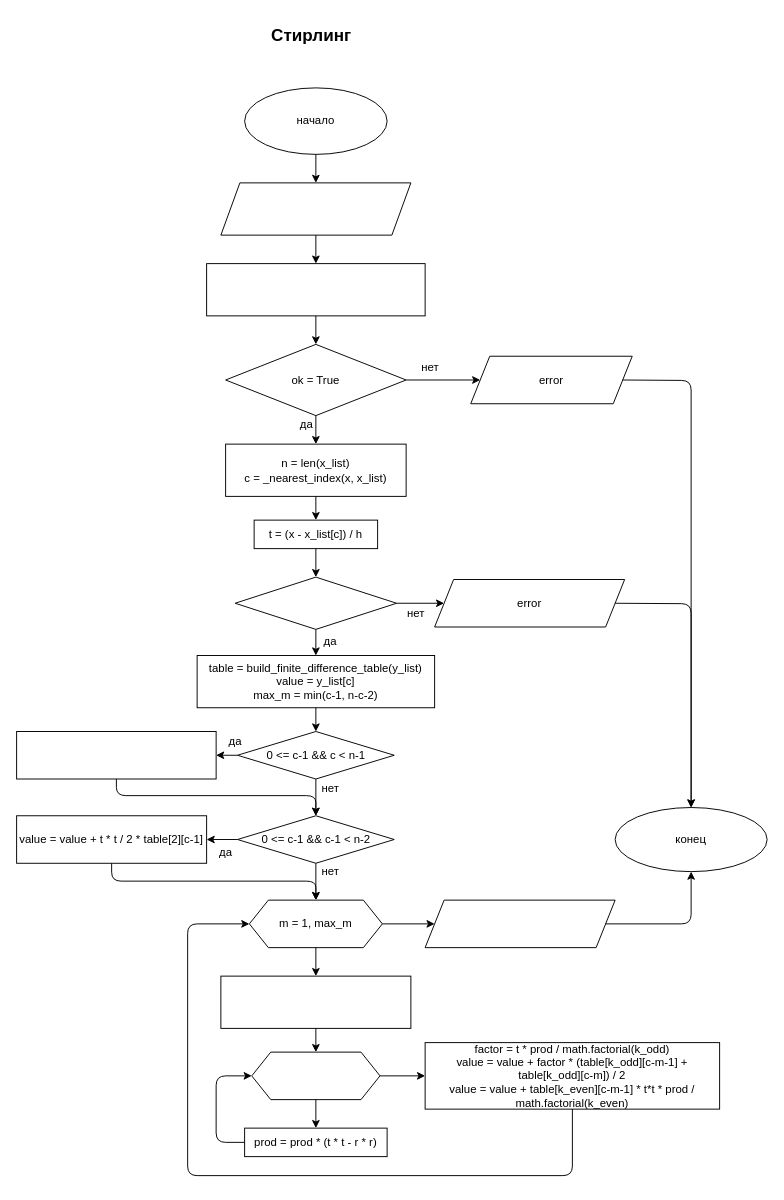
Some shapes in this 784 by 1200 pixel diagram are drawn without their labels. The centre of each missing label's shape, as x and y in pixels:
"k_odd = 2 * m + 1 k_even = 2 * m + 2 prod = 1" belongs at pixel 315 1001.
"ok, h = check_equidistant(x_list)" belongs at pixel 315 289.
"r = 1, m" belongs at pixel 315 1075.
"value" belongs at pixel 519 923.
"value = value + t * (table[1][c-1] + table[1][c]) / 2" belongs at pixel 116 755.
"x, x_list, y_list" belongs at pixel 315 208.
"|t| <= 0.25" belongs at pixel 315 602.
